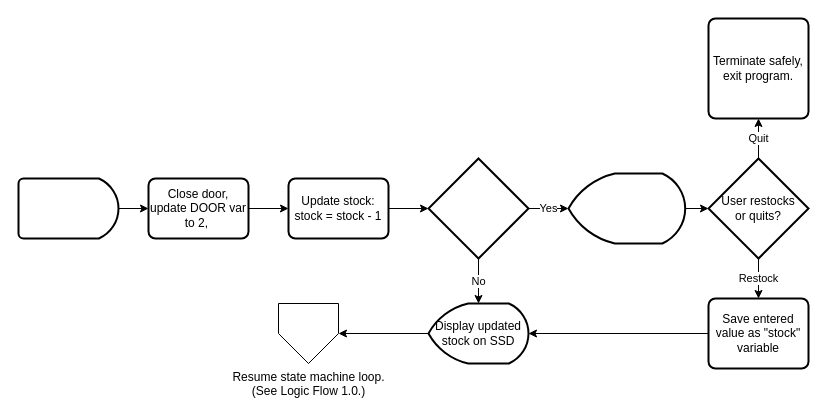
The diagram is 826 pixels wide and 416 high, and some of its shapes have lost their labels. Each missing label, with the box of its shape:
Ask user to restock, and enter new stock OR quit: (567, 172, 686, 244)
Stock depleted?: (427, 157, 529, 259)
Wait 2 seconds: (17, 177, 119, 239)
